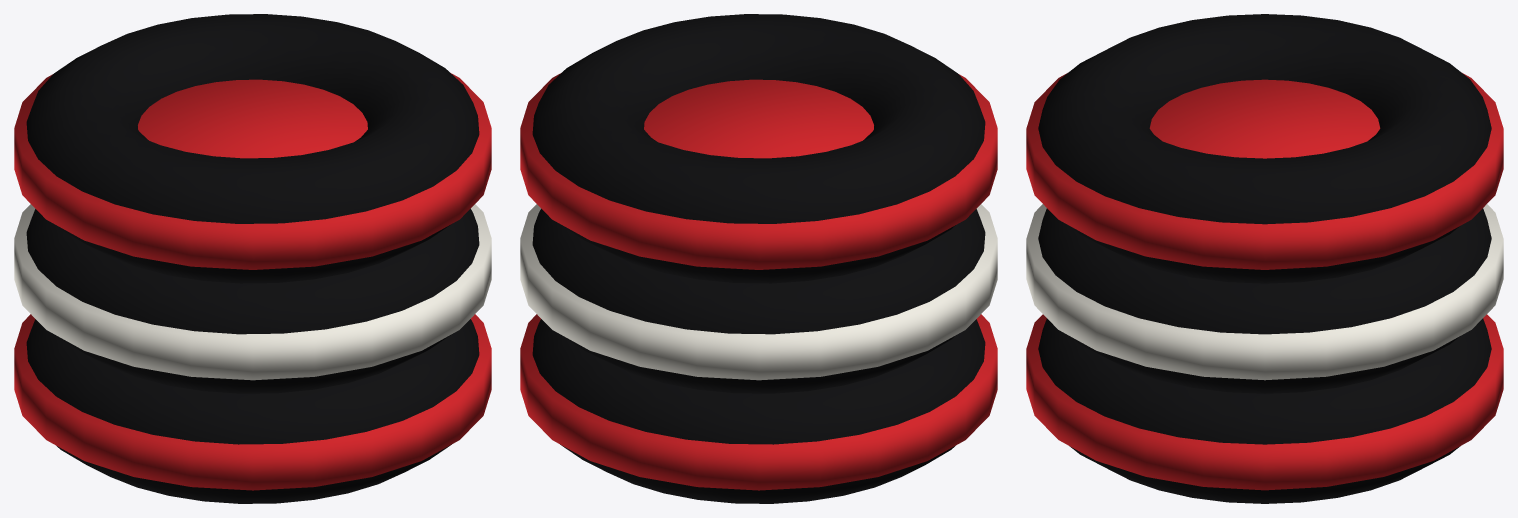
Rendered from TireStack.fbx.
3 views of the same model, side by side, from view 1: azimuth 30°, elevation 25°; view 2: azimuth 150°, elevation 25°; view 3: azimuth 270°, elevation 25° (orthographic).
Parts seen in each view (by area): view 1: TireStack; view 2: TireStack; view 3: TireStack.
Part boxes in pixels (x1=…): TireStack: x1=14, y1=14, x2=491, y2=503; TireStack: x1=520, y1=14, x2=997, y2=503; TireStack: x1=1026, y1=14, x2=1503, y2=503.
Size of the model in its own units: 1.06 by 0.8063 by 1.06.
